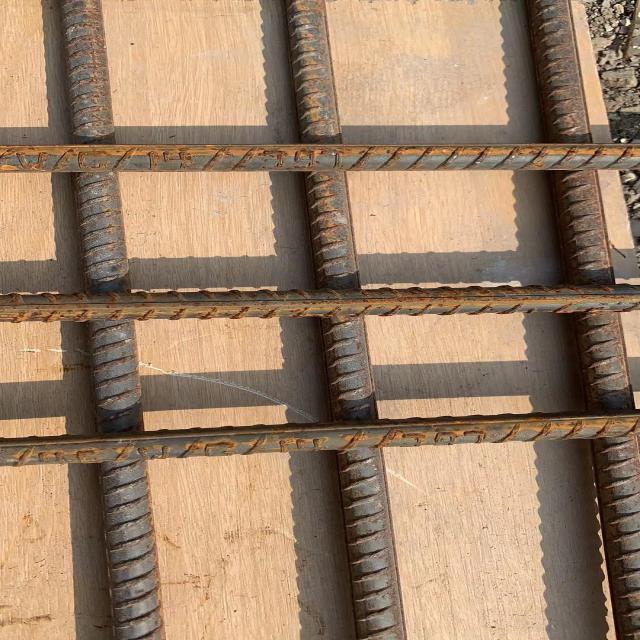ribbed bar: (282, 0, 406, 639), (521, 0, 639, 639), (57, 0, 167, 639), (0, 412, 639, 466), (0, 284, 639, 323), (0, 141, 639, 173)
